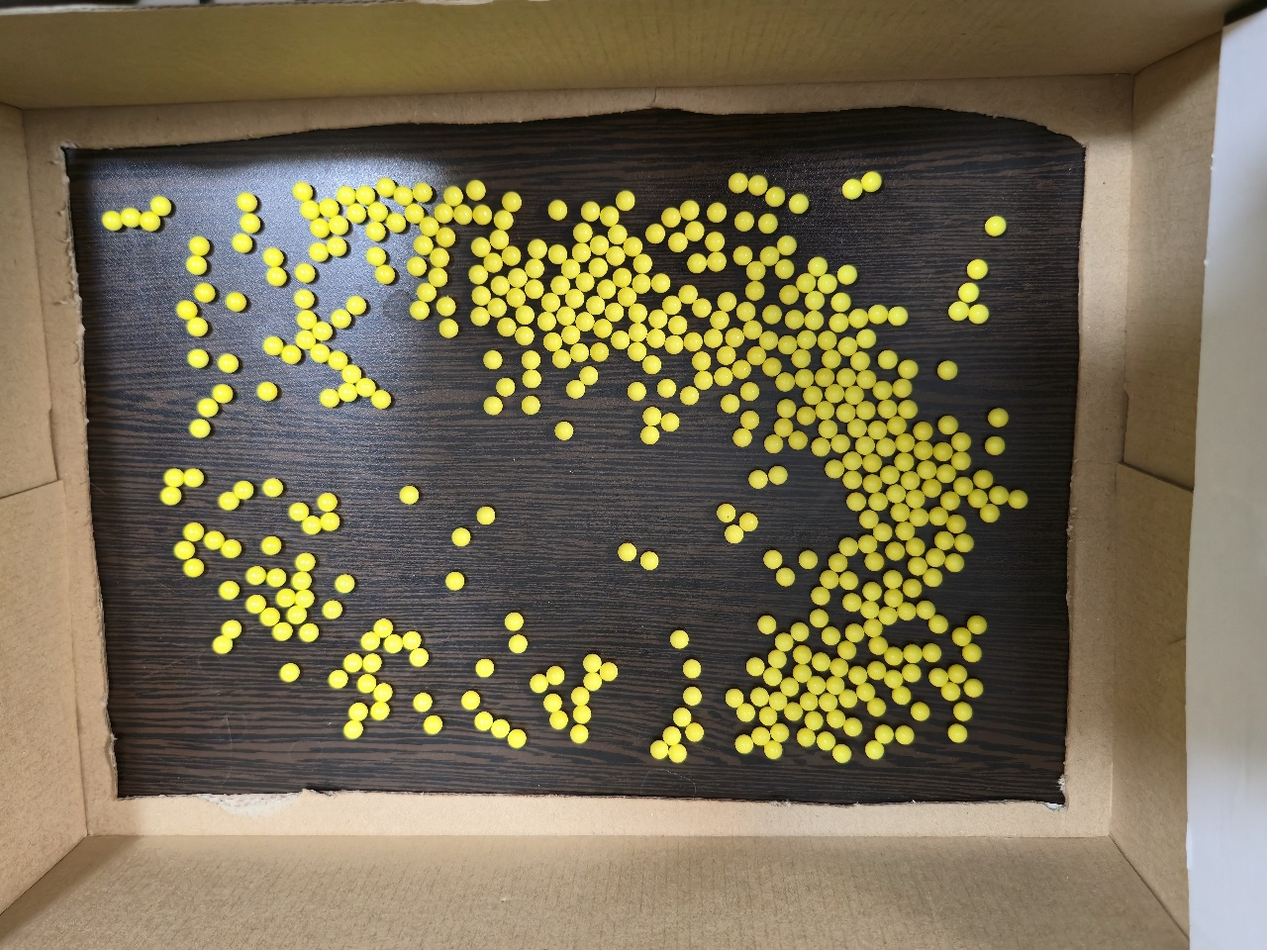yellow_bead: (193, 240, 206, 253), (191, 257, 203, 271), (217, 637, 229, 650), (225, 624, 238, 636), (222, 357, 235, 369), (154, 200, 167, 212), (347, 723, 359, 735), (285, 348, 297, 360), (301, 314, 313, 326), (199, 286, 211, 298), (512, 272, 524, 284), (299, 267, 311, 279), (370, 250, 382, 262), (990, 220, 1002, 232), (244, 218, 256, 230), (390, 217, 402, 229), (106, 215, 118, 227), (372, 206, 384, 218), (297, 186, 309, 198), (865, 176, 877, 188), (223, 585, 236, 596), (222, 496, 235, 507), (216, 388, 229, 399), (192, 353, 205, 364), (191, 322, 204, 333), (180, 304, 193, 315), (360, 678, 372, 689), (413, 652, 425, 663), (364, 636, 376, 647), (303, 627, 315, 638), (276, 626, 288, 637), (327, 605, 339, 616), (249, 599, 261, 610), (265, 540, 277, 551), (293, 507, 305, 518), (202, 402, 214, 413), (375, 394, 387, 405), (261, 386, 273, 397), (860, 374, 872, 385), (314, 348, 326, 359), (300, 334, 312, 345), (892, 311, 904, 322), (972, 309, 984, 320), (953, 306, 965, 317), (414, 305, 426, 316), (350, 300, 362, 311), (476, 290, 487, 302), (421, 287, 433, 298), (270, 271, 282, 282), (841, 269, 853, 280), (379, 269, 391, 280), (972, 263, 983, 275), (411, 261, 423, 272), (552, 248, 563, 260), (313, 246, 324, 258), (418, 239, 429, 251), (237, 237, 248, 249), (370, 226, 381, 238), (424, 221, 435, 233), (145, 216, 156, 228), (125, 212, 136, 224), (457, 209, 468, 221), (409, 208, 420, 220), (794, 198, 805, 210), (241, 197, 253, 208), (507, 196, 518, 208), (620, 195, 631, 207), (770, 191, 781, 203), (447, 190, 458, 202), (398, 190, 409, 202), (417, 186, 428, 198), (847, 183, 858, 195), (380, 181, 391, 193), (290, 610, 303, 620), (295, 576, 308, 586), (178, 545, 191, 555), (225, 544, 238, 554), (164, 491, 177, 501), (266, 483, 279, 493), (230, 298, 243, 308), (672, 748, 683, 759), (495, 723, 506, 734), (428, 719, 439, 730), (478, 716, 489, 727), (465, 696, 476, 707), (284, 667, 295, 678), (347, 658, 358, 669), (325, 393, 336, 404), (342, 387, 353, 398), (360, 382, 371, 393), (942, 365, 953, 376), (882, 354, 893, 365), (574, 347, 585, 358), (842, 341, 853, 352), (861, 333, 872, 344), (672, 320, 683, 331), (833, 318, 844, 329), (809, 315, 820, 326), (853, 313, 864, 324), (475, 311, 486, 322), (520, 310, 531, 321), (492, 302, 503, 313), (440, 301, 451, 312), (835, 297, 846, 308), (545, 297, 556, 308), (810, 295, 821, 306), (511, 292, 522, 303), (963, 287, 974, 298), (555, 280, 566, 291), (495, 280, 506, 291), (473, 269, 484, 280), (593, 262, 604, 273), (813, 261, 824, 272), (692, 258, 703, 269), (637, 258, 648, 269), (488, 257, 499, 268), (711, 256, 722, 267), (434, 252, 445, 263), (475, 241, 486, 252), (673, 237, 684, 248), (612, 229, 623, 240), (739, 216, 750, 227), (498, 215, 509, 226), (604, 211, 615, 222), (712, 207, 723, 218), (684, 205, 695, 216), (324, 202, 335, 213), (360, 190, 371, 201), (752, 179, 763, 190), (377, 623, 389, 633), (249, 571, 261, 581), (299, 557, 311, 567), (208, 535, 220, 545), (321, 498, 333, 508), (403, 490, 415, 500), (188, 473, 200, 483), (333, 354, 343, 366), (317, 326, 329, 336), (802, 277, 812, 289), (566, 263, 576, 275), (332, 240, 342, 252), (782, 239, 792, 251), (595, 239, 605, 251), (763, 218, 773, 230), (478, 209, 488, 221), (352, 208, 362, 220), (586, 206, 596, 218), (553, 204, 563, 216), (471, 184, 481, 196), (512, 733, 522, 744), (775, 727, 785, 738), (352, 707, 363, 717), (418, 698, 428, 709), (773, 696, 783, 707), (687, 692, 698, 702), (377, 688, 388, 698), (812, 680, 822, 691), (588, 676, 598, 687), (333, 674, 343, 685), (480, 663, 490, 674), (367, 658, 377, 669), (816, 657, 827, 667), (513, 639, 524, 649), (388, 638, 398, 649), (407, 635, 417, 646), (279, 593, 289, 604), (339, 579, 350, 589), (843, 576, 854, 586), (449, 576, 460, 586), (271, 573, 282, 583), (325, 517, 336, 527), (873, 497, 884, 507), (891, 489, 902, 499), (238, 485, 249, 495), (167, 473, 178, 483), (745, 415, 755, 426), (849, 390, 859, 401), (808, 390, 818, 401), (878, 385, 888, 396), (571, 384, 581, 395), (661, 383, 672, 393), (699, 375, 709, 386), (800, 373, 810, 384), (719, 371, 729, 382), (584, 370, 594, 381), (903, 364, 914, 374), (647, 359, 657, 370), (488, 354, 498, 365), (268, 340, 278, 351), (783, 339, 793, 350), (688, 336, 699, 346), (548, 336, 558, 347), (802, 334, 812, 345), (616, 334, 626, 345), (708, 333, 719, 343), (443, 323, 454, 333), (502, 322, 512, 333), (580, 317, 590, 328), (541, 317, 552, 327), (715, 315, 725, 326), (653, 314, 663, 325), (873, 309, 883, 320), (767, 309, 777, 320), (633, 308, 643, 319), (610, 307, 620, 318), (741, 306, 751, 317), (697, 303, 707, 314), (667, 300, 677, 311), (591, 300, 601, 311), (722, 296, 732, 307), (570, 293, 580, 304), (623, 292, 633, 303), (785, 289, 795, 300), (683, 289, 693, 300), (750, 285, 760, 296), (602, 284, 612, 295), (822, 278, 832, 289), (656, 278, 666, 289), (636, 278, 646, 289), (580, 277, 590, 288), (433, 272, 443, 283), (751, 265, 761, 276), (780, 263, 790, 274), (267, 252, 278, 262), (765, 250, 775, 261), (738, 250, 748, 261), (611, 250, 621, 261), (577, 247, 587, 258), (532, 243, 542, 254), (628, 241, 638, 252), (710, 237, 721, 247), (494, 235, 505, 245), (650, 228, 661, 238), (578, 227, 588, 238), (690, 226, 700, 237), (334, 220, 344, 231), (305, 205, 315, 216), (733, 177, 743, 188), (575, 728, 584, 740), (194, 424, 206, 433), (439, 207, 448, 219), (341, 190, 350, 202), (837, 749, 847, 759), (870, 745, 880, 755), (654, 745, 664, 755), (739, 739, 749, 749), (821, 736, 831, 746), (756, 731, 766, 741), (667, 731, 677, 741), (900, 730, 910, 740), (880, 729, 890, 739), (953, 728, 963, 738), (848, 722, 858, 732), (831, 714, 841, 724), (677, 712, 687, 722), (547, 699, 557, 709), (823, 698, 833, 708), (843, 694, 853, 704), (755, 692, 765, 702), (897, 691, 907, 701), (861, 687, 871, 697), (785, 682, 795, 692), (830, 681, 840, 691), (889, 674, 899, 684), (768, 672, 778, 682), (853, 671, 863, 681), (604, 667, 614, 677), (872, 666, 882, 676), (687, 664, 697, 674), (798, 650, 808, 660), (908, 649, 918, 659), (850, 628, 860, 638), (868, 623, 878, 633), (865, 605, 875, 615), (847, 598, 857, 608), (816, 591, 826, 601), (867, 587, 877, 597), (888, 575, 898, 585), (928, 573, 938, 583), (781, 572, 791, 582), (833, 558, 843, 568), (870, 557, 880, 567), (768, 554, 778, 564), (930, 553, 940, 563), (911, 542, 921, 552), (843, 542, 853, 552), (863, 539, 873, 549), (940, 535, 950, 545), (456, 532, 466, 542), (878, 527, 888, 537), (901, 526, 911, 536), (306, 520, 316, 530), (481, 511, 491, 521), (896, 508, 906, 518), (851, 497, 861, 507), (911, 494, 921, 504), (959, 482, 969, 492), (868, 479, 878, 489), (906, 476, 916, 486), (848, 475, 858, 485), (753, 475, 763, 485), (885, 470, 895, 480), (941, 469, 951, 479), (830, 464, 840, 474), (848, 456, 858, 466), (881, 442, 891, 452), (817, 442, 827, 452), (860, 440, 870, 450), (769, 439, 779, 449), (835, 438, 845, 448), (645, 430, 655, 440), (647, 412, 657, 422), (841, 408, 851, 418), (861, 406, 871, 416), (820, 406, 830, 416), (903, 405, 913, 415), (883, 404, 893, 414), (782, 404, 792, 414), (526, 401, 536, 411), (488, 401, 498, 411), (830, 389, 840, 399), (898, 383, 908, 393), (501, 382, 511, 392), (527, 374, 537, 384), (841, 373, 851, 383), (855, 356, 865, 366), (697, 356, 707, 366), (797, 353, 807, 363), (752, 351, 762, 361), (669, 339, 679, 349), (822, 335, 832, 345), (764, 335, 774, 345), (651, 333, 661, 343), (520, 331, 530, 341), (566, 330, 576, 340), (790, 315, 800, 325), (561, 311, 571, 321), (441, 232, 451, 242), (810, 715, 819, 726), (576, 692, 585, 703), (588, 658, 597, 669), (527, 354, 536, 365), (731, 332, 740, 343), (338, 314, 347, 325), (301, 294, 310, 305), (530, 284, 539, 295), (619, 272, 628, 283), (314, 223, 323, 234), (667, 212, 676, 223), (769, 745, 778, 755), (690, 728, 700, 737), (554, 715, 563, 725), (578, 709, 587, 719), (741, 708, 751, 717), (958, 707, 968, 716), (789, 707, 799, 716), (375, 707, 385, 716), (730, 694, 739, 704), (934, 673, 944, 682), (551, 671, 560, 681), (907, 669, 917, 678), (834, 664, 844, 673), (751, 662, 760, 672), (927, 649, 937, 658), (779, 638, 789, 647), (675, 634, 684, 644), (827, 631, 836, 641), (796, 627, 805, 637), (509, 617, 519, 626), (815, 614, 825, 623), (902, 608, 912, 617), (300, 595, 310, 604), (889, 594, 899, 603), (825, 575, 834, 585), (913, 562, 923, 571), (950, 558, 959, 568), (644, 557, 654, 566), (804, 555, 814, 564), (623, 548, 633, 557), (891, 547, 901, 556), (960, 538, 969, 548), (730, 529, 739, 539), (864, 515, 874, 524), (974, 494, 983, 504), (994, 492, 1004, 501), (774, 470, 783, 480), (923, 465, 932, 475), (900, 458, 910, 467), (868, 458, 877, 468), (957, 456, 966, 466), (919, 446, 928, 456), (990, 441, 1000, 450), (957, 437, 966, 447), (794, 435, 803, 445), (738, 432, 747, 442), (559, 426, 569, 435), (852, 424, 862, 433), (779, 423, 789, 432), (943, 421, 953, 430), (665, 418, 675, 427), (994, 414, 1004, 423), (802, 412, 812, 421), (726, 399, 735, 409), (745, 387, 755, 396), (781, 377, 790, 387), (821, 373, 830, 383), (737, 364, 746, 374), (768, 362, 777, 372), (827, 354, 836, 364), (722, 350, 731, 360), (633, 346, 642, 356), (748, 325, 758, 334), (599, 323, 608, 333), (263, 614, 274, 622), (914, 514, 925, 522), (633, 386, 641, 397), (556, 353, 564, 364), (530, 263, 538, 274), (506, 250, 514, 261), (802, 733, 811, 742), (764, 712, 773, 721), (872, 703, 881, 712), (805, 698, 814, 707), (947, 688, 956, 697), (773, 655, 782, 664), (968, 649, 977, 658), (934, 620, 943, 629), (763, 620, 772, 629), (921, 606, 930, 615), (744, 518, 753, 527), (946, 497, 955, 506), (919, 427, 928, 436), (824, 425, 833, 434), (893, 421, 902, 430), (634, 328, 643, 337), (969, 685, 979, 693), (535, 679, 543, 689), (798, 670, 808, 678), (883, 612, 893, 620), (901, 440, 911, 448), (349, 369, 357, 379), (597, 347, 605, 357), (189, 530, 200, 537), (872, 428, 883, 435), (953, 671, 962, 679), (843, 647, 852, 655), (874, 642, 883, 650), (909, 585, 918, 593), (934, 514, 943, 522), (987, 509, 995, 518), (722, 509, 731, 517), (1015, 496, 1023, 505), (190, 566, 200, 573), (685, 391, 692, 401), (940, 448, 948, 456), (890, 654, 899, 661), (979, 477, 988, 484), (974, 623, 982, 630), (916, 711, 926, 716), (958, 635, 965, 642), (954, 521, 961, 528), (928, 487, 934, 493), (1251, 519, 1255, 522), (1228, 569, 1230, 572), (1266, 435, 1267, 440), (1221, 584, 1222, 586), (1229, 581, 1230, 582), (1236, 529, 1237, 530), (1244, 514, 1245, 515)
